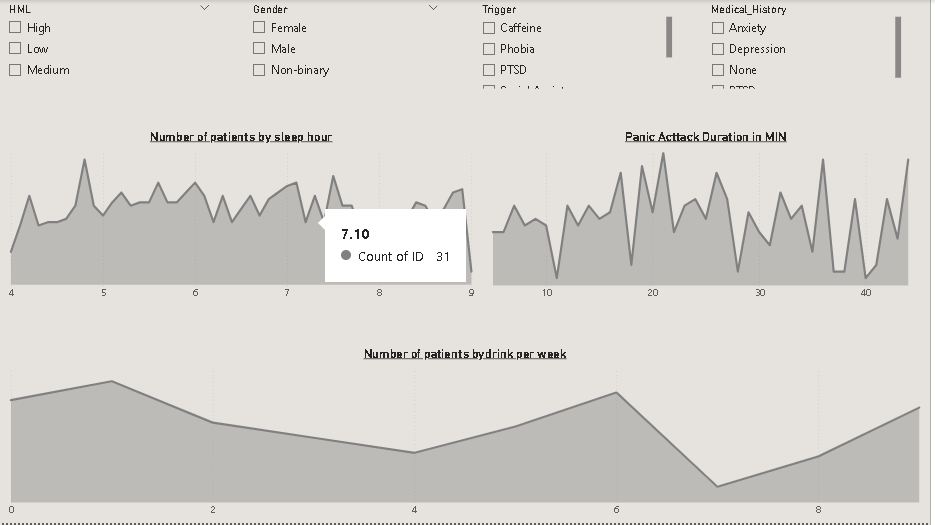

The page's visual inventory and layout, read from the dashboard file:
{"tool":"powerbi","page":{"name":"Other Requirment","canvas":[1280,720],"ordinal":2},"visuals":[{"type":"slicer","fields":{"Values":["panic_attack_dataset (1).Gender"]},"box":[336.5,0,279.4,126.7],"z":1},{"type":"slicer","fields":{"Values":["panic_attack_dataset (1).Trigger"]},"box":[651.4,0,279.4,126.7],"z":2},{"type":"slicer","fields":{"Values":["panic_attack_dataset (1).Medical_History"]},"box":[966.2,0,279.4,126.7],"z":3},{"type":"slicer","title":"Pannic Attack HML","fields":{"Values":["panic_attack_dataset (1).HML"]},"box":[0,0,301,126.7],"z":4},{"type":"areaChart","title":"Number of patients  bydrink per week","fields":{"Category":["panic_attack_dataset (1).Alcohol_Consumption"],"Y":["CountNonNull(panic_attack_dataset (1).ID)"]},"box":[0,476.6,1280.2,243.4],"z":5},{"type":"stackedAreaChart","title":"Number of patients by sleep hour","fields":{"Category":["panic_attack_dataset (1).Sleep_Hours"],"Y":["CountNonNull(panic_attack_dataset (1).ID)"]},"box":[0,177.1,663.8,243.4],"z":6},{"type":"stackedAreaChart","title":"Panic Acttack Duration in MIN","fields":{"Y":["CountNonNull(panic_attack_dataset (1).ID)"],"Category":["panic_attack_dataset (1).Duration_Minutes"]},"box":[663.8,177.1,616.3,243.4],"z":7}]}

Visuals, with their boxes in screenshot pixels (x1, y1, x2, y2), scaled from the page's 1280x720 canvas onto the 935x525 screenshot:
slicer - panic_attack_dataset (1).Gender: [left=246, top=0, right=450, bottom=92]
slicer - panic_attack_dataset (1).Trigger: [left=476, top=0, right=680, bottom=92]
slicer - panic_attack_dataset (1).Medical_History: [left=706, top=0, right=910, bottom=92]
"Pannic Attack HML" slicer: [left=0, top=0, right=220, bottom=92]
"Number of patients  bydrink per week" areaChart: [left=0, top=348, right=934, bottom=524]
"Number of patients by sleep hour" stackedAreaChart: [left=0, top=129, right=485, bottom=307]
"Panic Acttack Duration in MIN" stackedAreaChart: [left=485, top=129, right=934, bottom=307]
